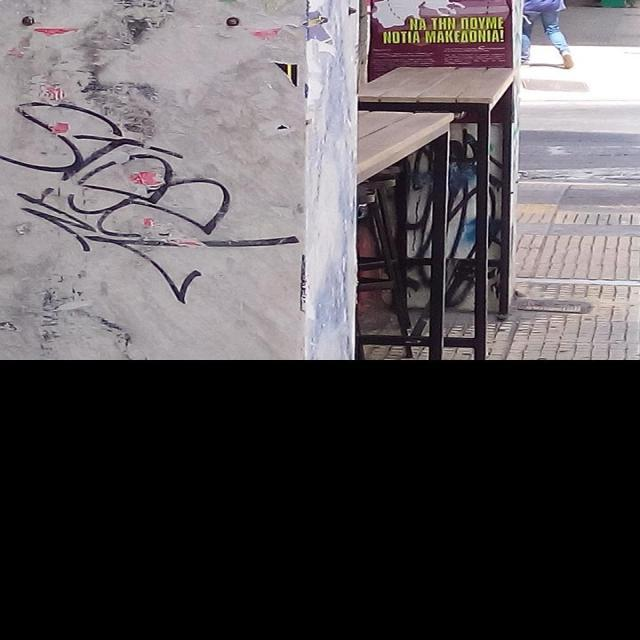nonspitting: (1, 100, 302, 306)
